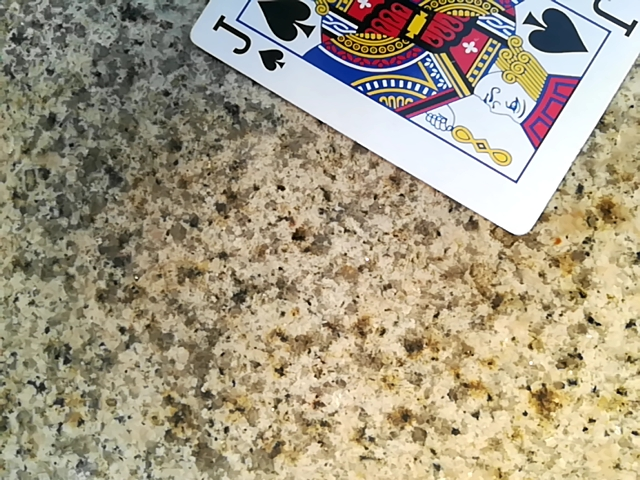ht j: (171, 0, 635, 235)
